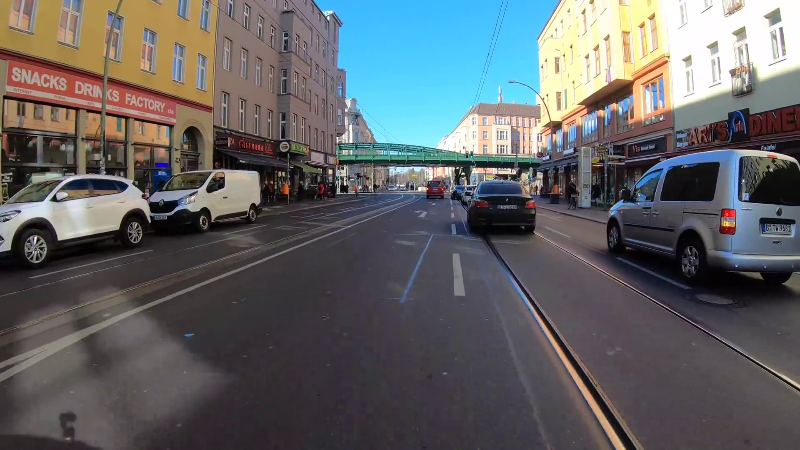Plate: (758, 221, 792, 233), (494, 204, 519, 210), (151, 213, 167, 220)
